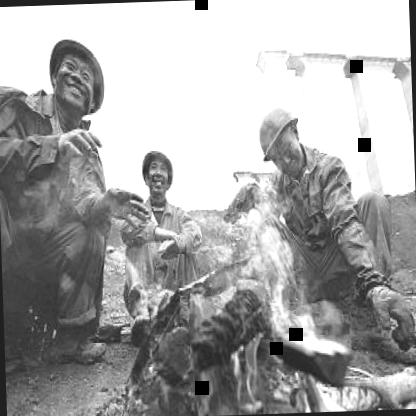helmet: (46, 21, 112, 139), (257, 100, 307, 176), (140, 146, 174, 204)
